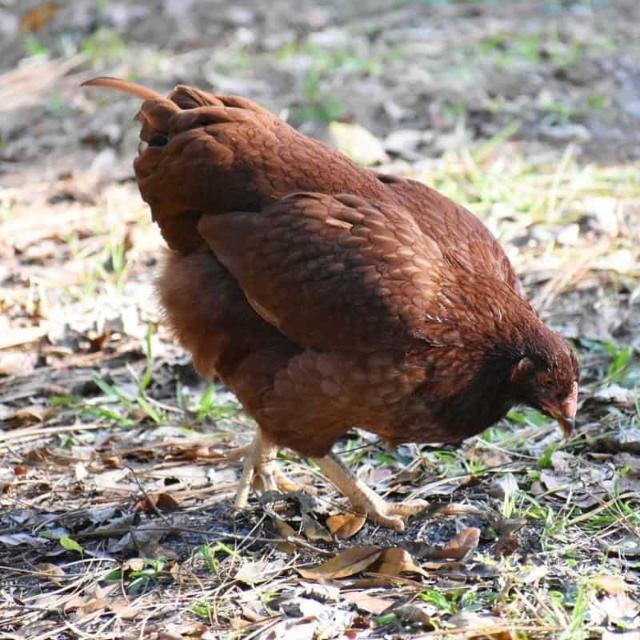Chicken: (81, 76, 581, 532)
